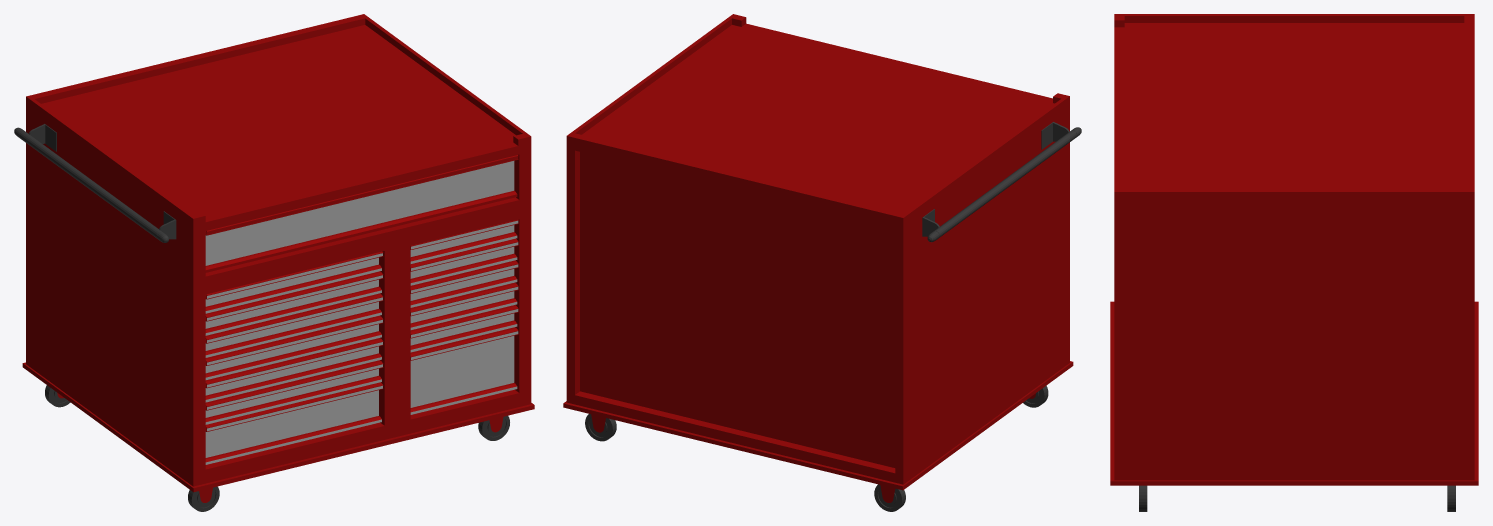
File: tool_chest_02.fbx
3 renders of one model, left to right at view 1: azimuth 30°, elevation 25°; view 2: azimuth 150°, elevation 25°; view 3: azimuth 270°, elevation 25°, orthographic. The views are drawn at different scales.
Parts seen in each view (by area): view 1: Tools_chest; view 2: Tools_chest; view 3: Tools_chest.
Part boxes in pixels (box(x1,y1,x2,y2)): Tools_chest: box(14, 14, 534, 511); Tools_chest: box(563, 14, 1081, 511); Tools_chest: box(1110, 14, 1478, 511).
Bounding box in the file's own units: 109 × 88.81 × 89.62.
1 material, 1 textured.
